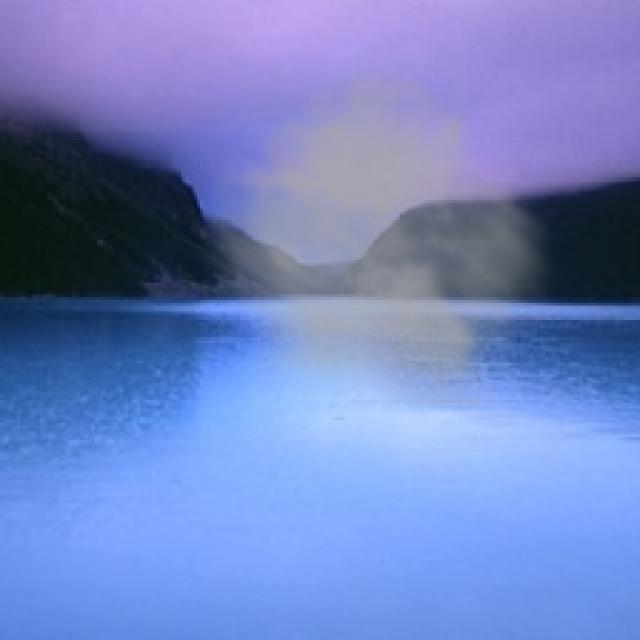Smoke: (188, 31, 566, 406)
